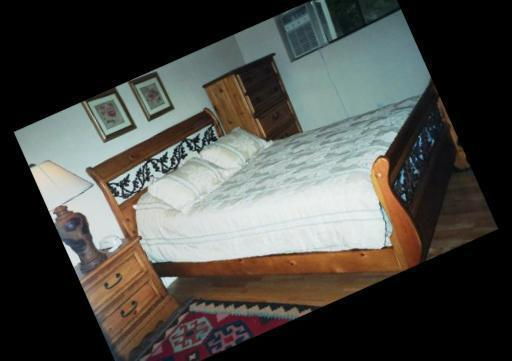Armario: (229, 59, 300, 142)
Escaleras: (96, 35, 492, 361)
